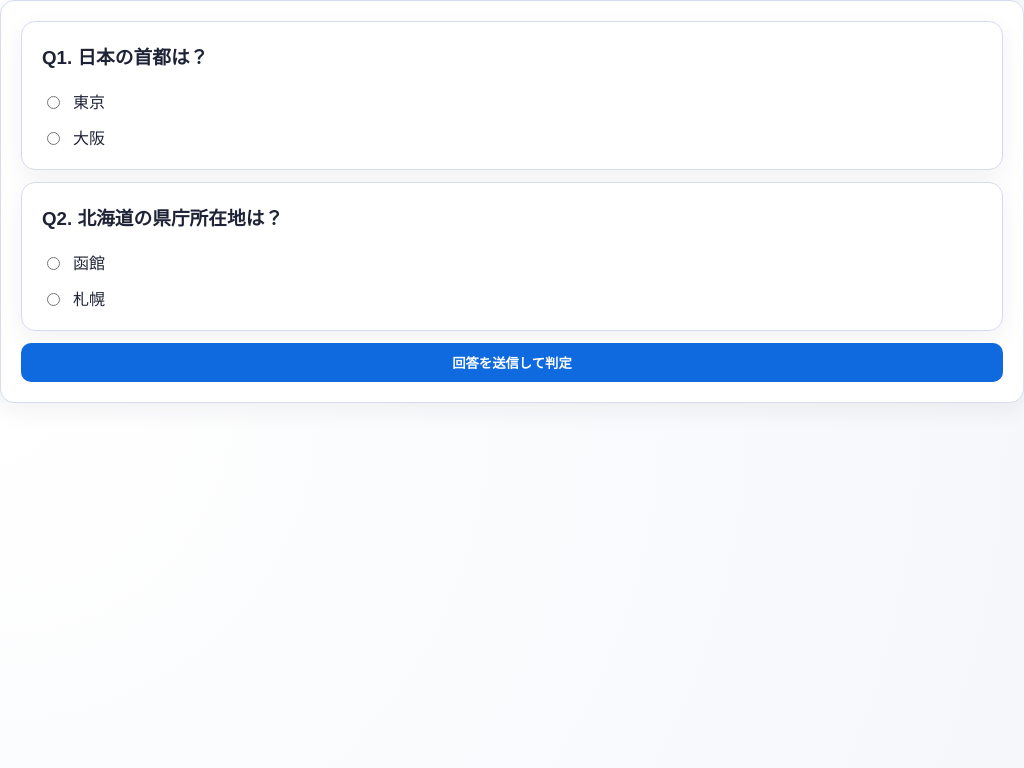
Scenario: QuizPlayer › APIエラーで本文にerrorがない場合は既定メッセージを表示する
Click the button "回答を送信して判定" at (512, 362), box [21,343,1003,382]
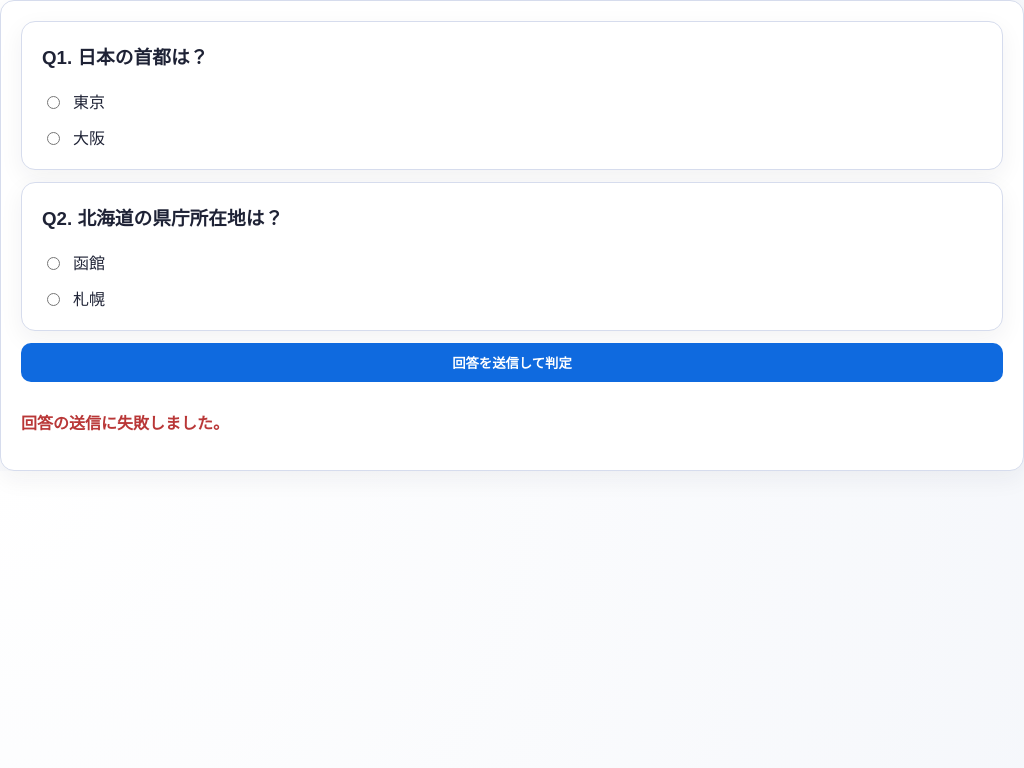
Now the text "回答の送信に失敗しました。" is shown, box [21,415,229,432]
